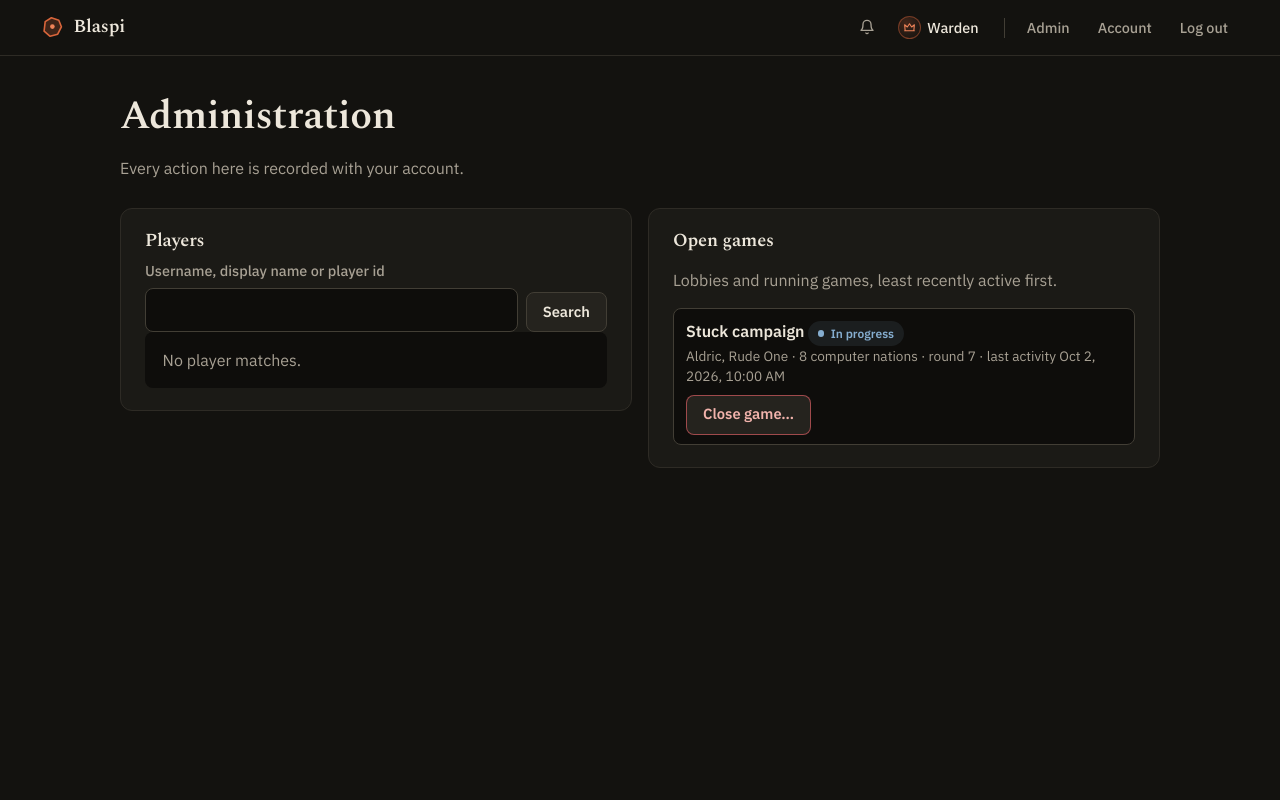
Test case: AdminPage › closes a stuck game with a reason
Expected: the text "Aldric, Rude One · 8 computer nations · round 7" is shown, [686,346,1122,386]
Click the button "Close game…" at (749, 414), box [686,394,811,434]
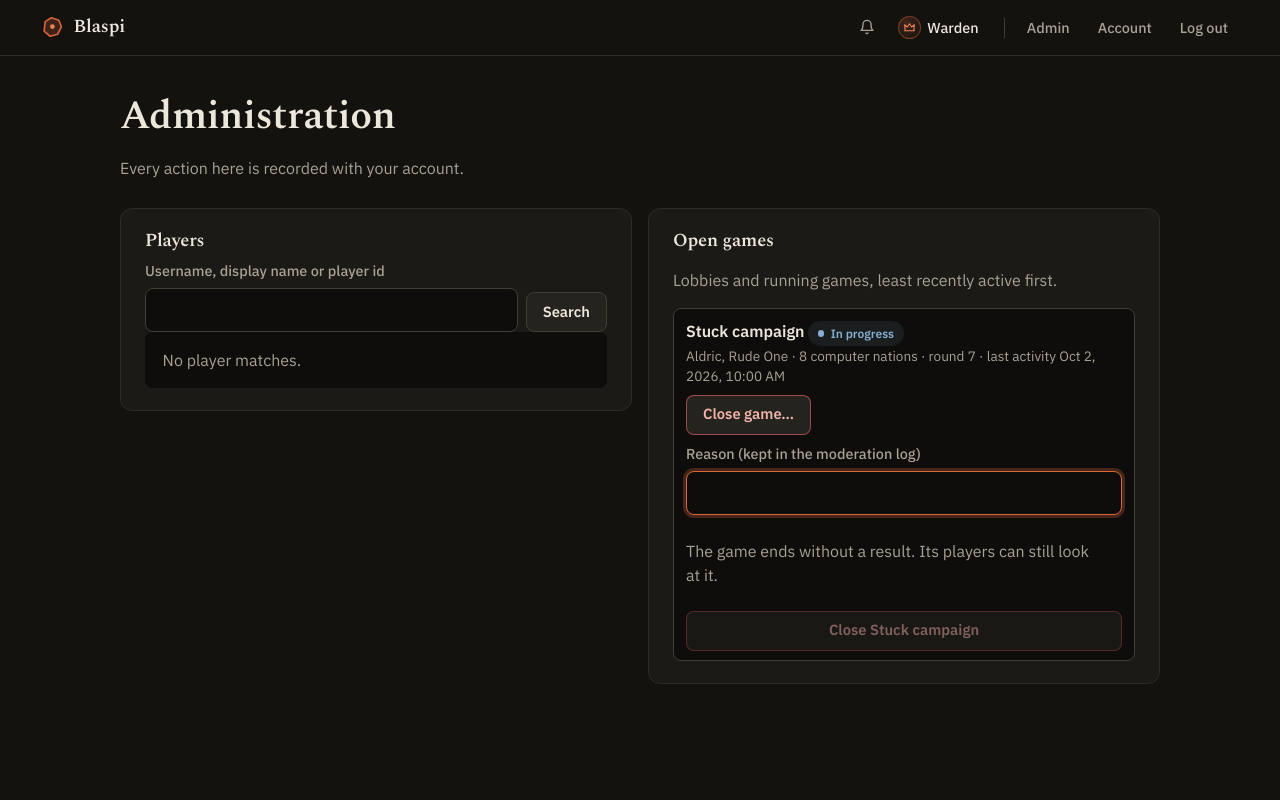
Type "Both players left" into the field labelled "Reason (kept in the moderation log)" at (904, 492), box [686,470,1122,514]
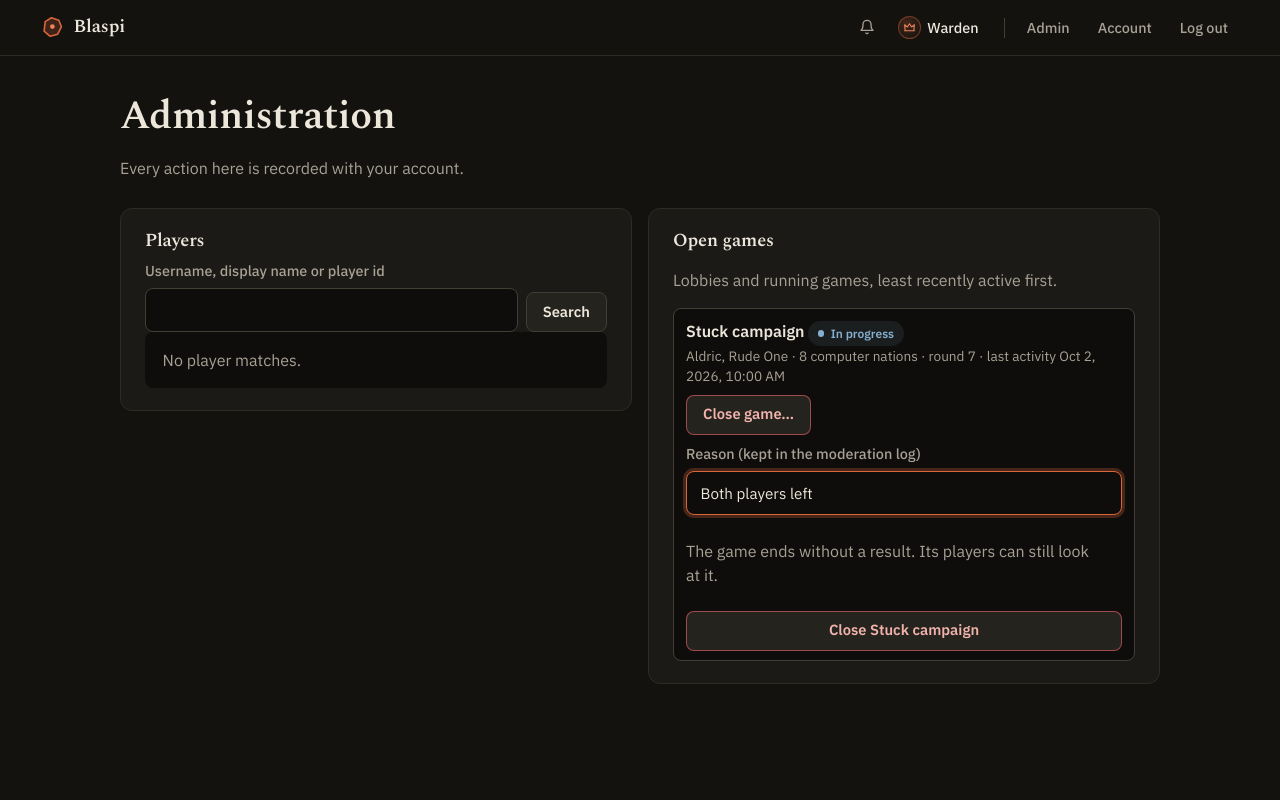
Click the button "Close Stuck campaign" at (904, 630), box [686,610,1122,650]
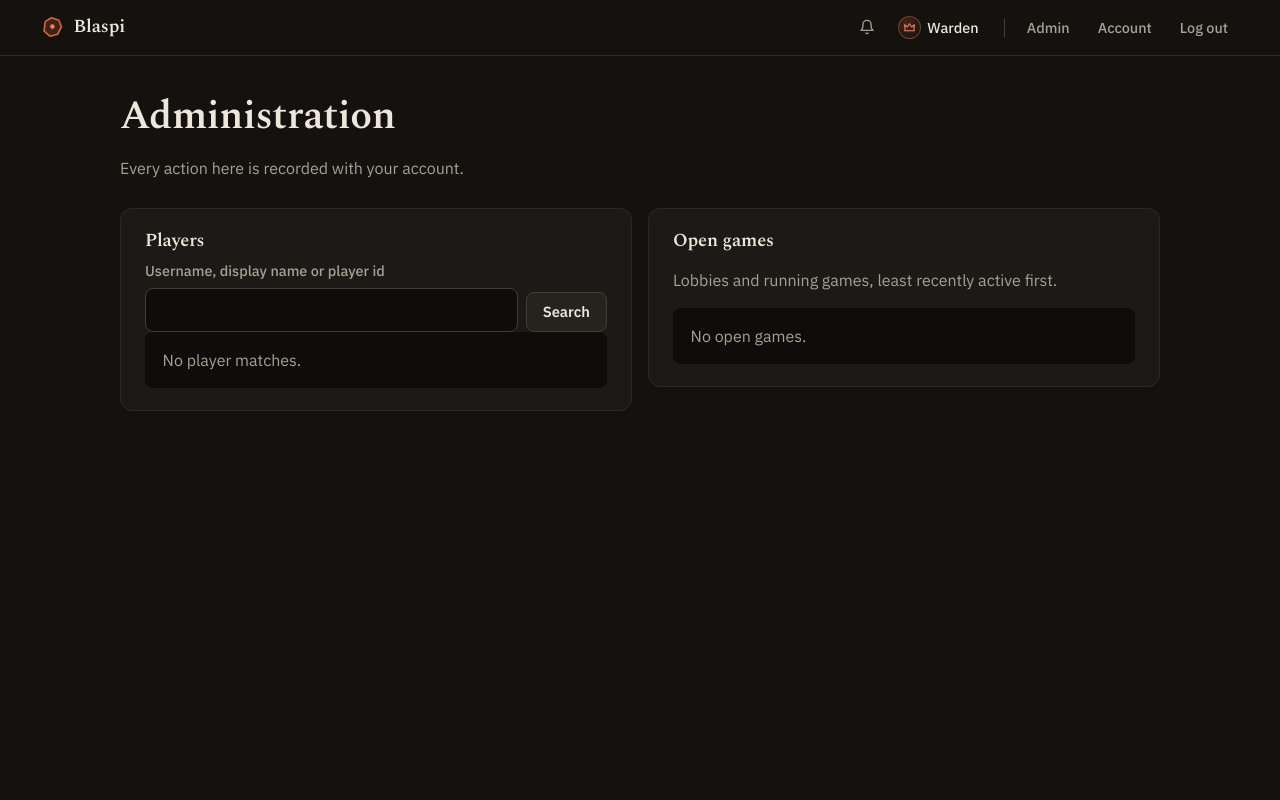
Now the text "No open games." is shown, box [673,308,1135,364]
